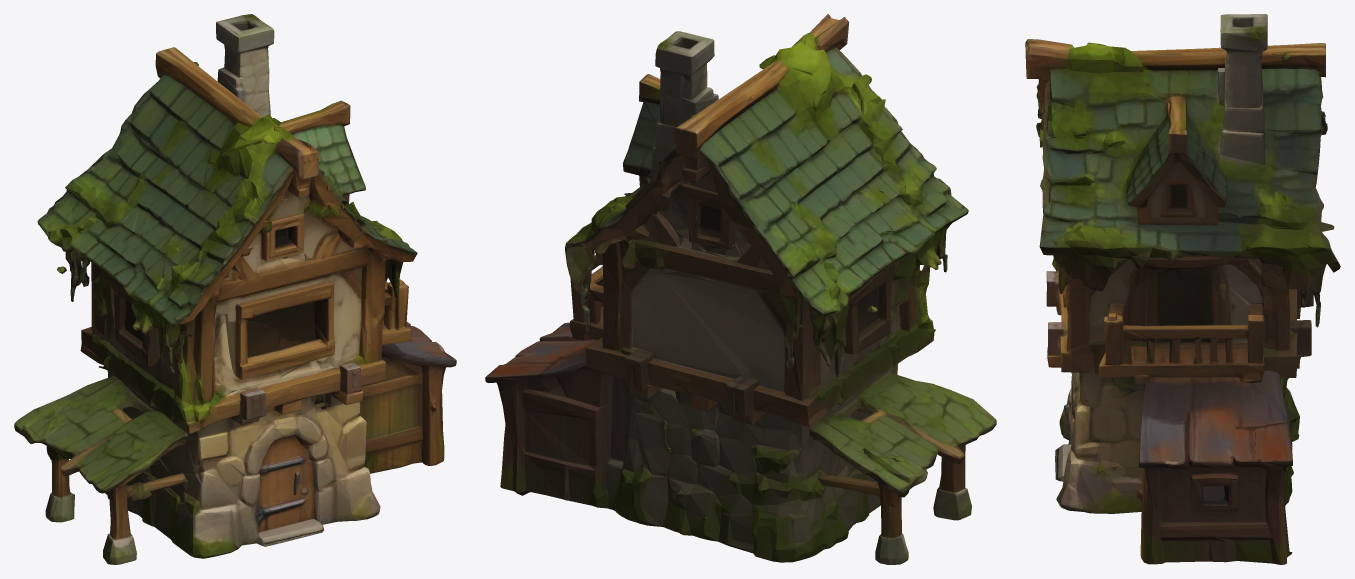
Rendered from house_green.glb.
3 views of the same model, side by side, from view 1: azimuth 30°, elevation 25°; view 2: azimuth 150°, elevation 25°; view 3: azimuth 270°, elevation 25° (orthographic). The views are drawn at different scales.
Visible parts, largest first — view 1: world; view 2: world; view 3: world.
Boxes of the visible parts, x1,y1,x2,y2 form: world: (14,14,456,564); world: (485,14,996,564); world: (1025,14,1340,564).
Bounding box in the file's own units: 0.9183 × 0.9989 × 0.6121.
Materials: 1 (1 with a texture image).
